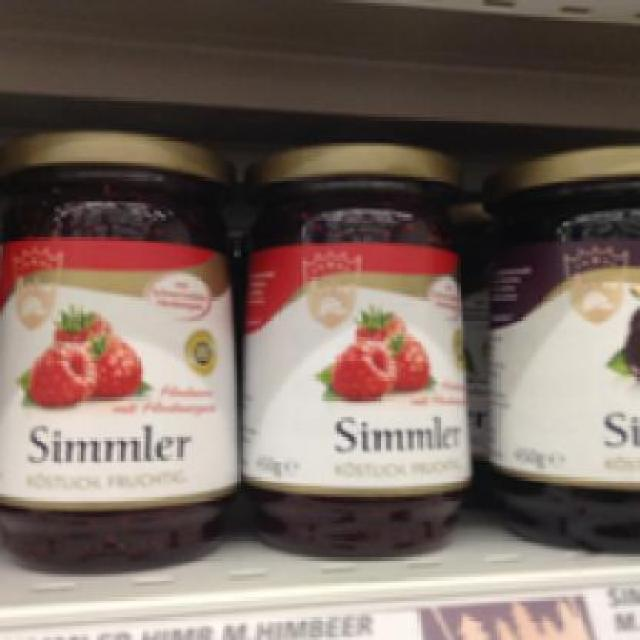Jam: (0, 126, 240, 574), (239, 140, 472, 560), (480, 143, 637, 552)
